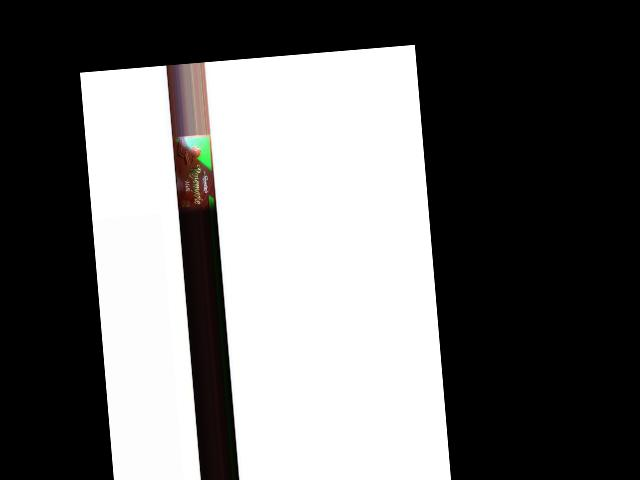chocolate: (172, 135, 215, 215)
